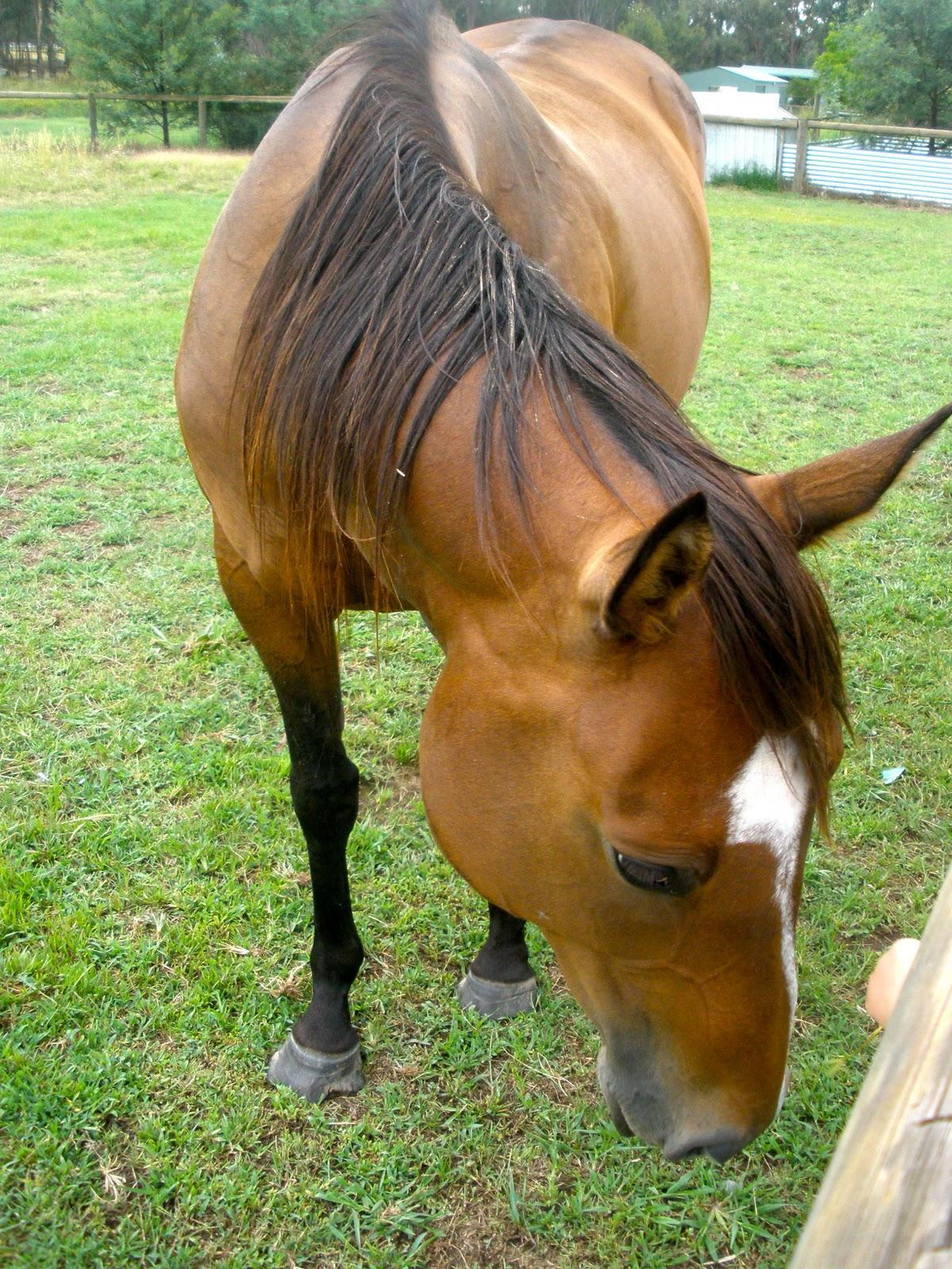horse: (153, 0, 952, 1172)
